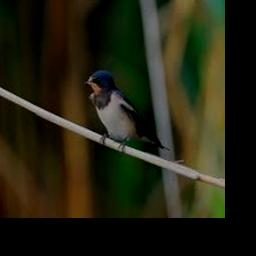Swallow: (82, 70, 169, 152)
